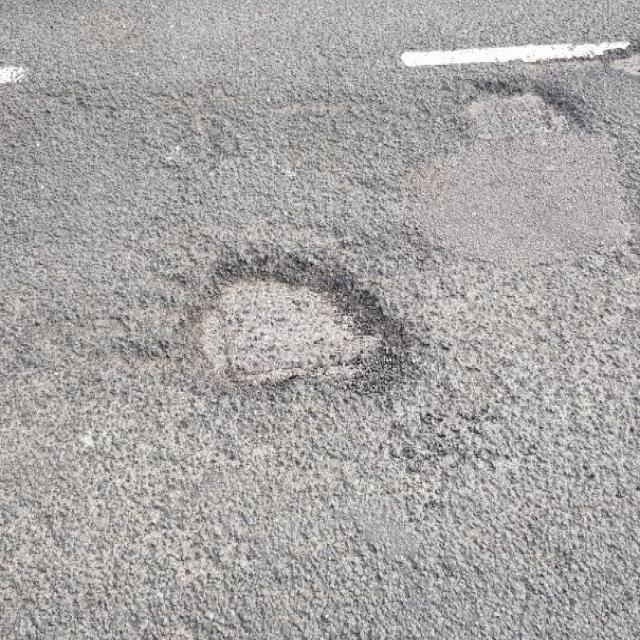Pothole: (173, 238, 420, 408), (455, 70, 582, 134), (606, 38, 640, 73)
